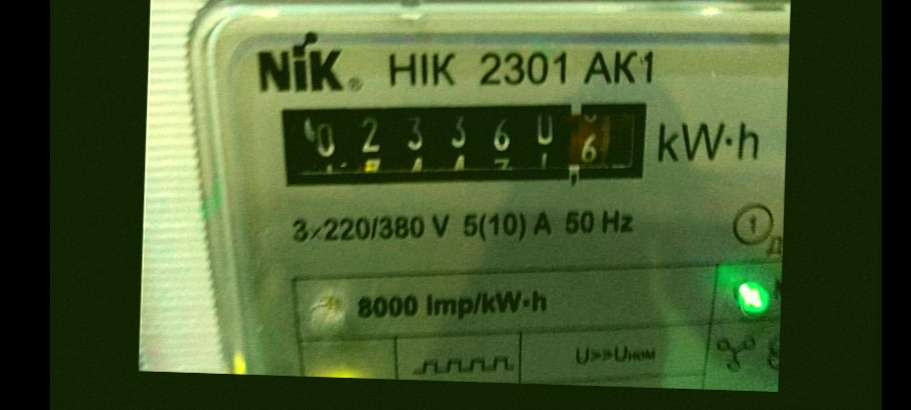0: (312, 117, 338, 160), (533, 109, 557, 147)
2: (356, 113, 384, 154)
3: (403, 112, 426, 153), (445, 112, 469, 150)
6: (487, 113, 515, 155), (579, 130, 601, 167)
screen: (257, 77, 661, 207)
